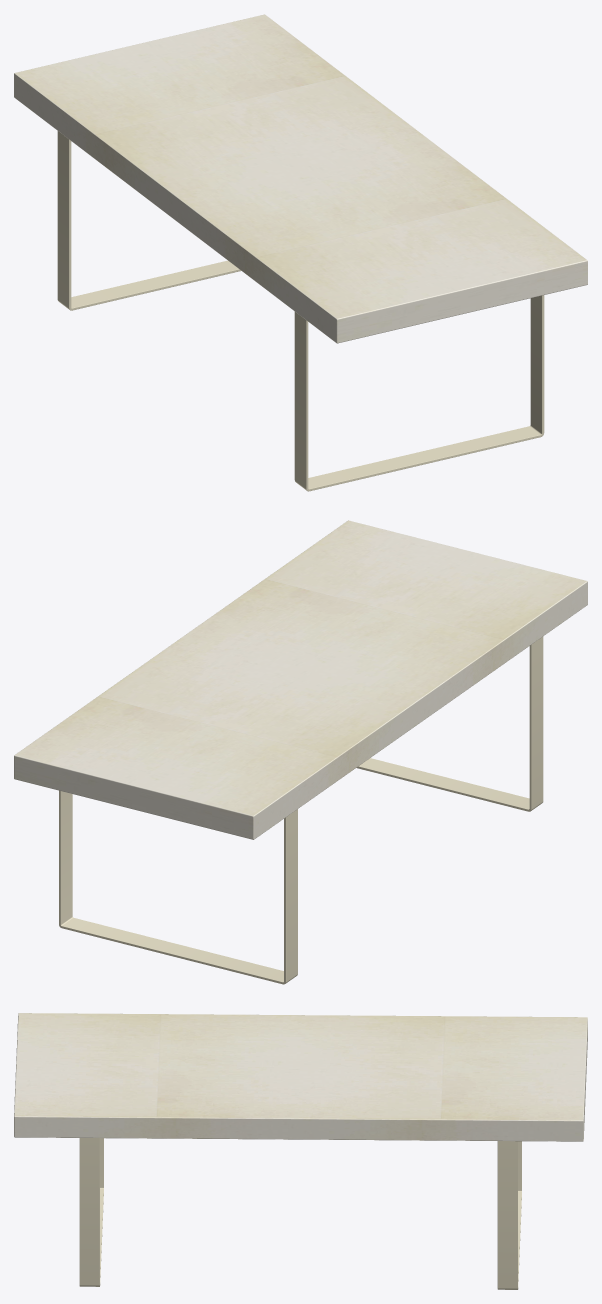
File: NFG-I0015.glb
3 renders of one model, top to bottom at view 1: azimuth 30°, elevation 25°; view 2: azimuth 150°, elevation 25°; view 3: azimuth 270°, elevation 25°, orthographic. The views are drawn at different scales.
Visible parts, largest first — view 1: Object132; view 2: Object132; view 3: Object132.
Boxes of the visible parts, x1,y1,x2,y2 form: Object132: [14, 14, 587, 491]; Object132: [14, 520, 587, 984]; Object132: [14, 1013, 587, 1289].
Bounding box in the file's own units: 0.8902 × 0.6667 × 2.
1 material, 1 textured.
